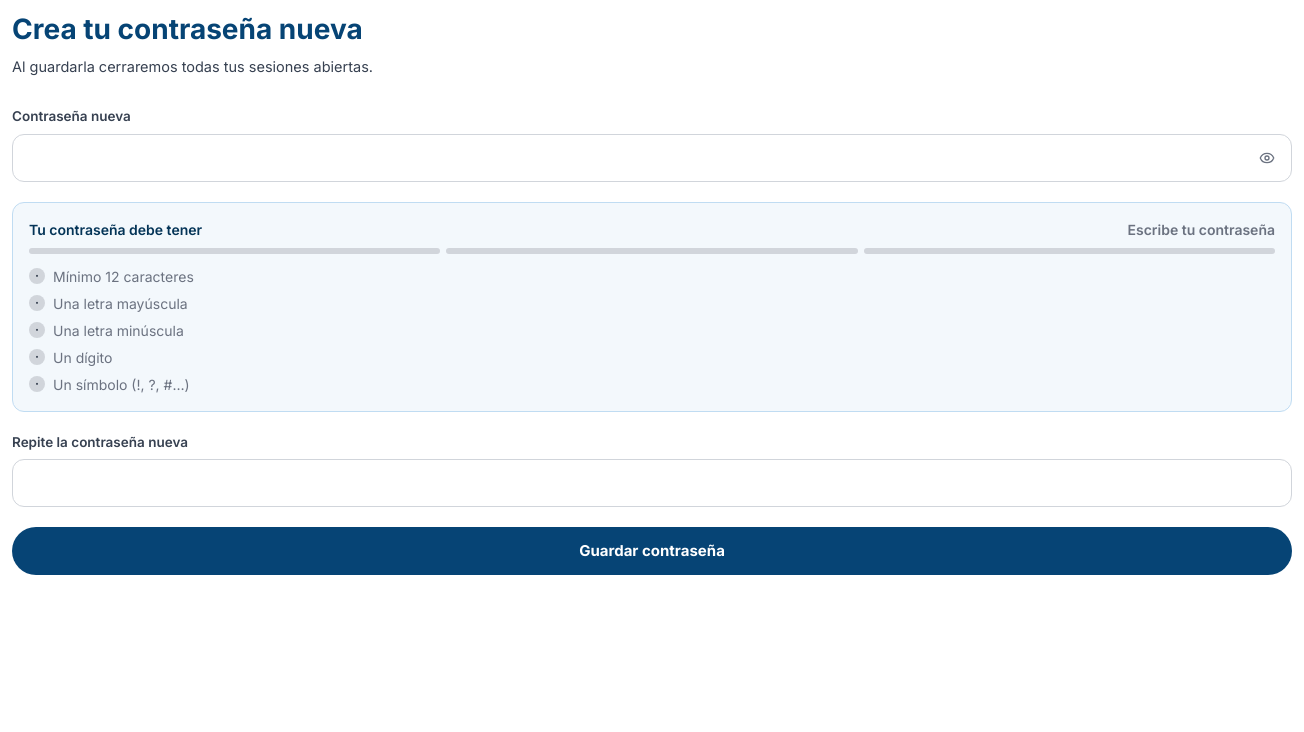
FormularioDeContrasenaNueva › permite ver la contraseña que escribe
The width and height of the screenshot is (1304, 732).
Expected: the heading "Crea tu contraseña nueva" is shown, [12,12,363,46]
Click the button named "Mostrar la contraseña": (1267, 158) [1243,135,1291,181]
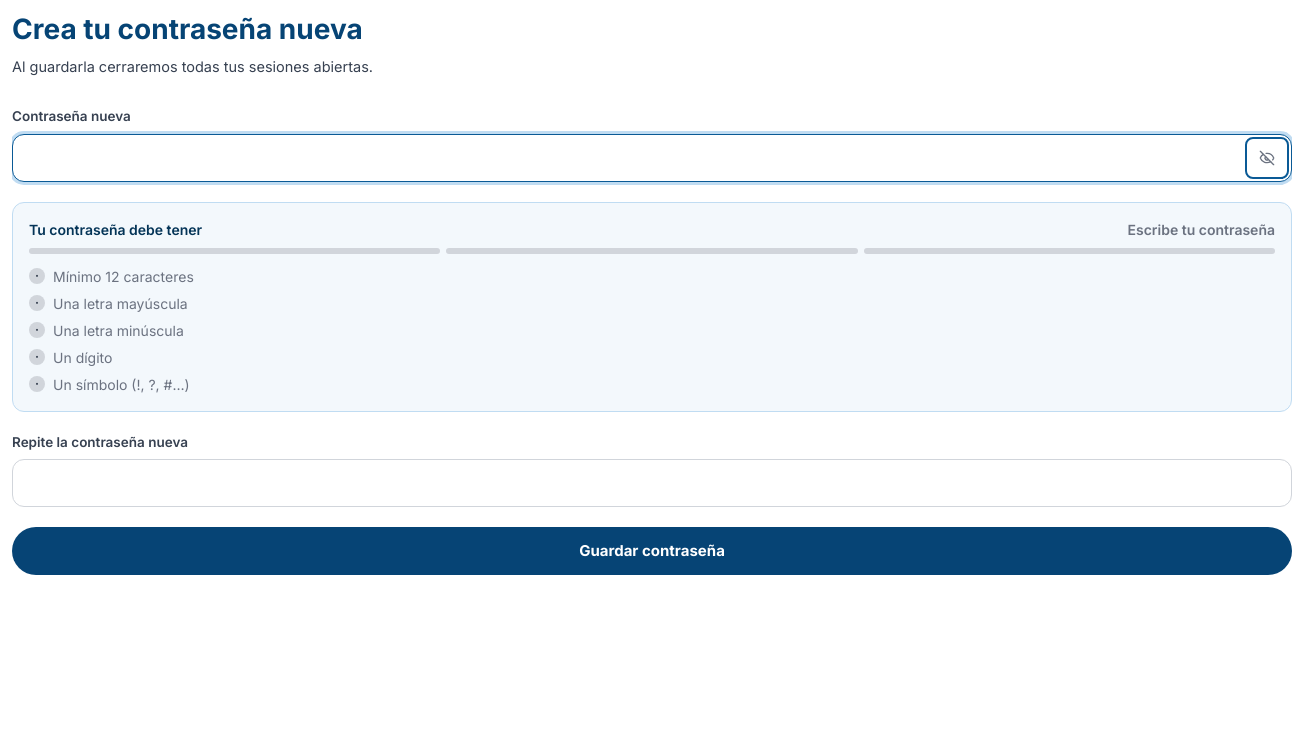
Expected: the button named "Ocultar la contraseña" is shown, [1243,135,1291,181]
